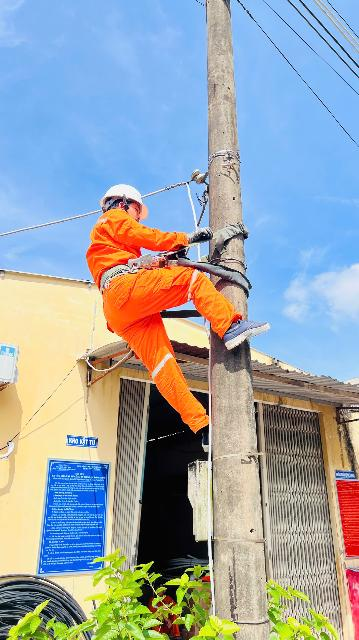gloves: (173, 224, 219, 249)
harness: (88, 252, 179, 289)
helmet: (92, 176, 154, 216)
shoes: (219, 311, 277, 353), (196, 426, 223, 456)
